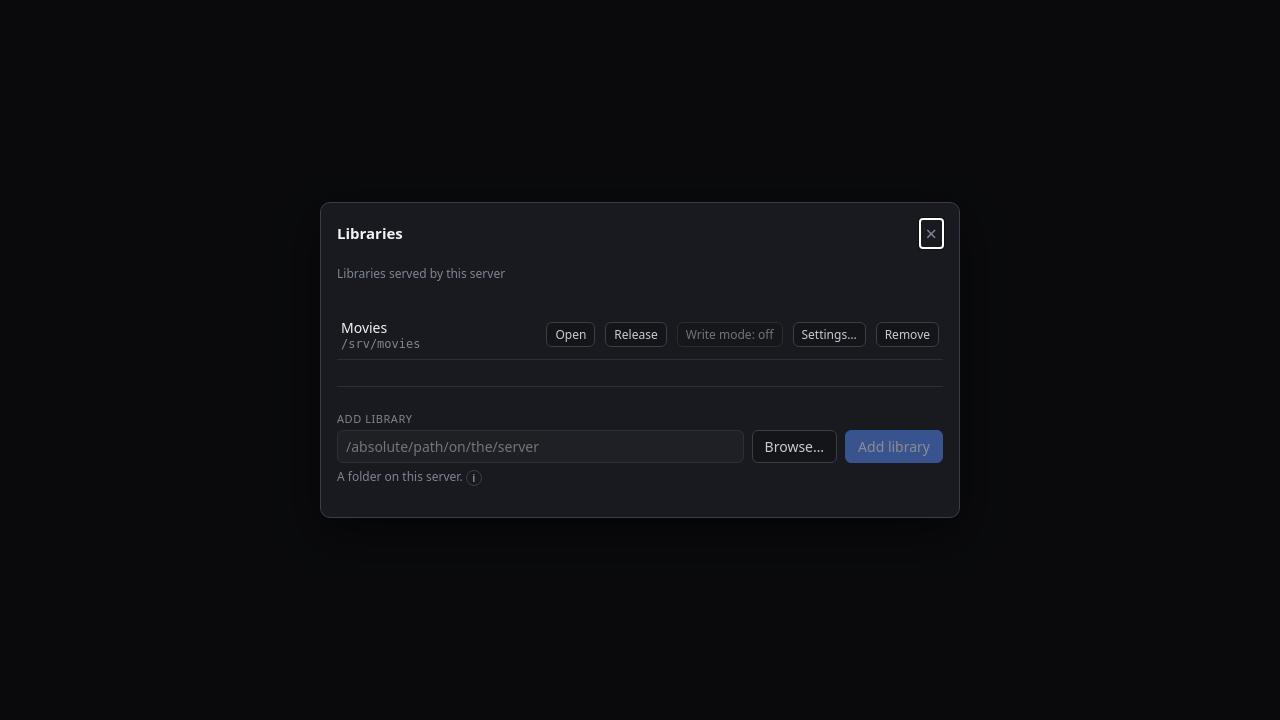
it: picking an existing library folder stages it, and Add registers without switching
This screenshot has width=1280, height=720.
Expected: the text "Movies" is shown, x1=341 y1=318 x2=387 y2=337
Click the button "Browse…".
click(794, 446)  # box x1=752 y1=430 x2=837 y2=463
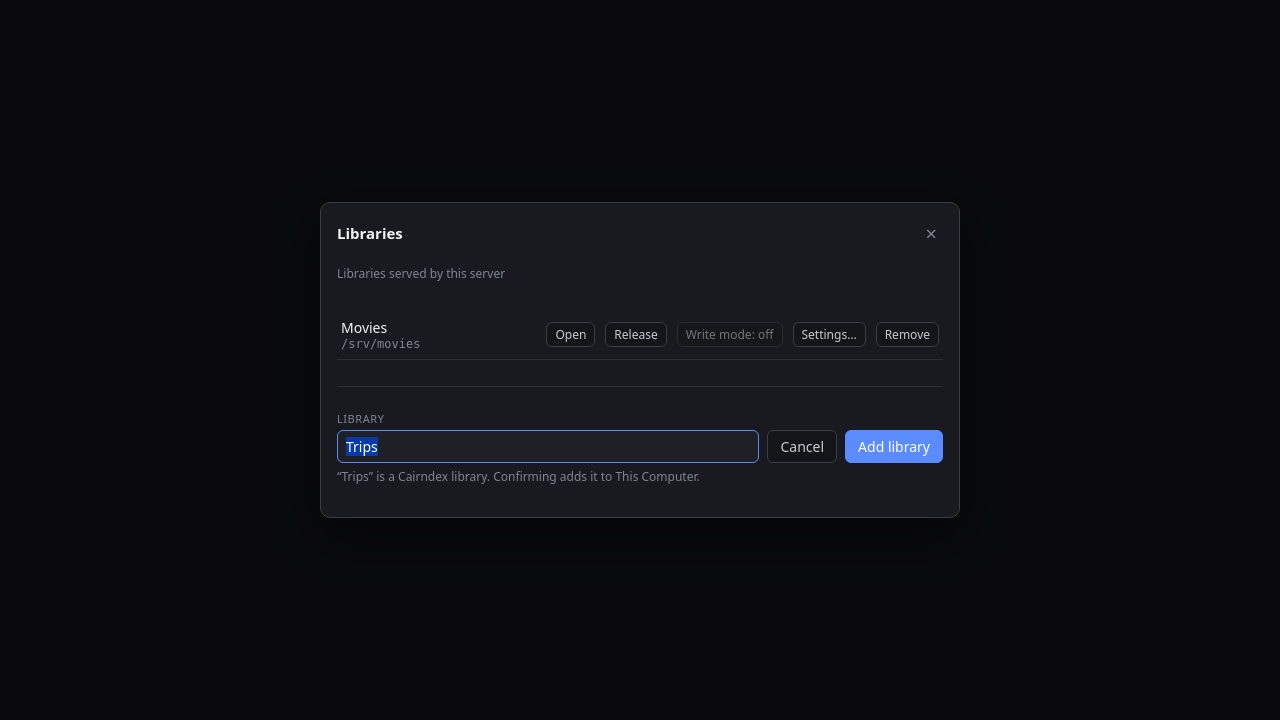
Click the button "Add library".
click(894, 446)  # box x1=845 y1=430 x2=943 y2=463
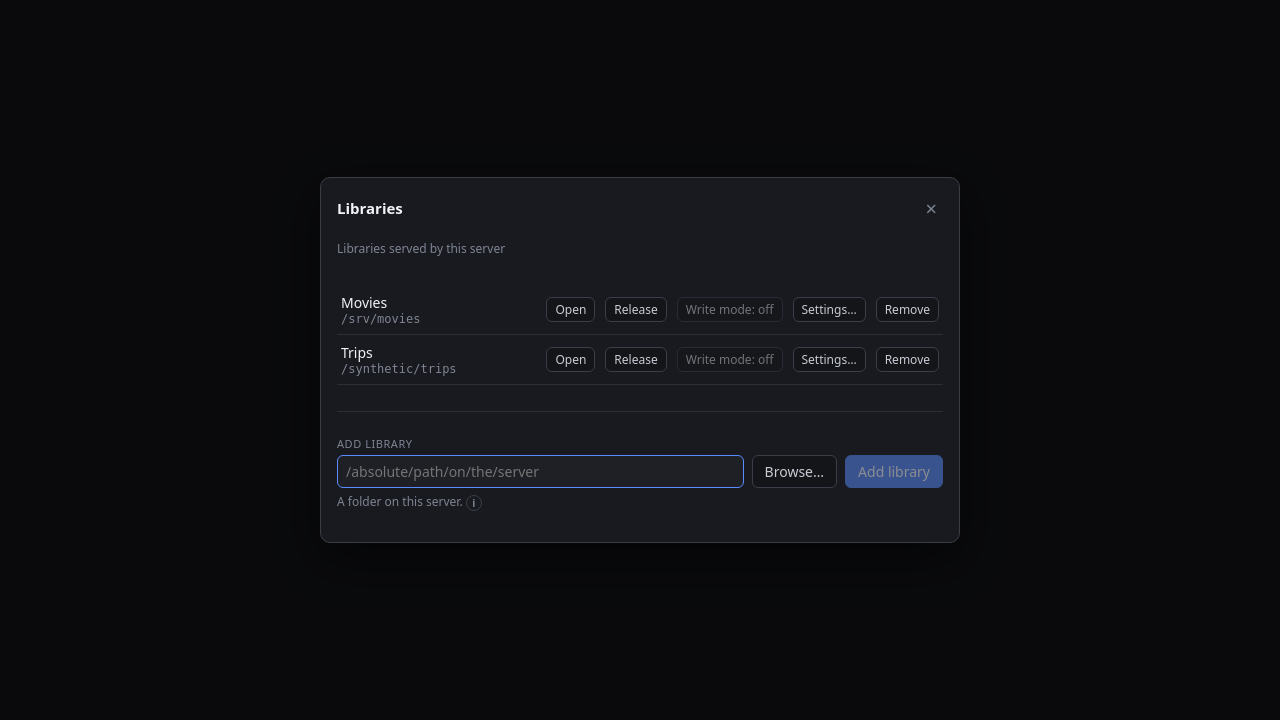
Expected: the dropdown named "Library path" is shown, x1=337 y1=455 x2=744 y2=488
